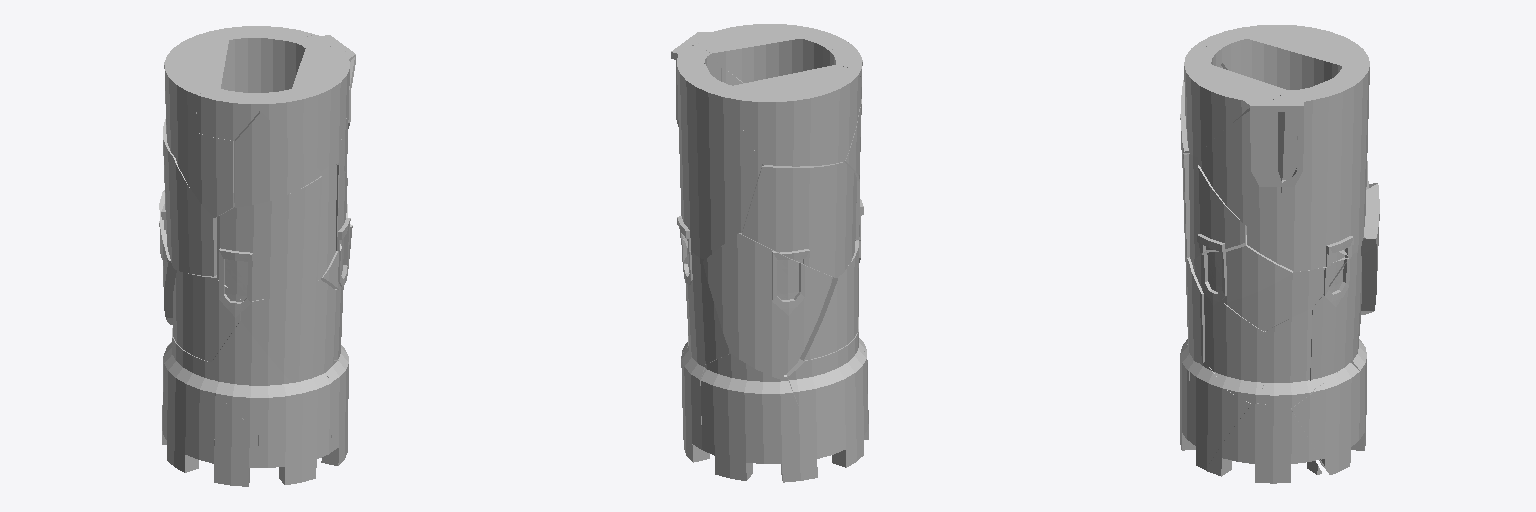
File: destruction_tower_000012.obj
3 views of the same model, side by side, from view 1: azimuth 30°, elevation 25°; view 2: azimuth 150°, elevation 25°; view 3: azimuth 270°, elevation 25° (orthographic).
Visible parts, largest first — view 1: tower.001_cell.024_Mesh.024, tower.001_cell.028_Mesh.028, tower.001_cell.021_Mesh.021, tower.001_cell.006_Mesh.006, tower.001_cell.011_Mesh.011, tower.001_cell.002_Mesh.002, tower.001_cell.013_Mesh.013, tower.001_cell.015_Mesh.015, tower.001_cell.009_Mesh.009, tower.001_cell.003_Mesh.003, tower.001_cell.017_Mesh.017, tower.001_cell.014_Mesh.014 (+10 smaller); view 2: tower.001_cell.025_Mesh.025, tower.001_cell.017_Mesh.017, tower.001_cell.007_Mesh.007, tower.001_cell.015_Mesh.015, tower.001_cell.003_Mesh.003, tower.001_cell.028_Mesh.028, tower.001_cell.005_Mesh.005, tower.001_cell.009_Mesh.009, tower.001_cell.012_Mesh.012, tower.001_cell.029_Mesh.029, tower.001_cell.006_Mesh.006, tower.001_cell.026_Mesh.026 (+2 smaller); view 3: tower.001_cell.017_Mesh.017, tower.001_cell.020_Mesh.020, tower.001_cell.015_Mesh.015, tower.001_cell.028_Mesh.028, tower.001_cell.030_Mesh.030, tower.001_cell.029_Mesh.029, tower.001_cell.012_Mesh.012, tower.001_cell_Mesh, tower.001_cell.016_Mesh.016, tower.001_cell.010_Mesh.010, tower.001_cell.023_Mesh.023, tower.001_cell.026_Mesh.026 (+10 smaller).
Part boxes in pixels (x1,y1,x2,y2): tower.001_cell.024_Mesh.024: (217,176,321,301); tower.001_cell.028_Mesh.028: (253,48,355,171); tower.001_cell.021_Mesh.021: (240,280,336,384); tower.001_cell.006_Mesh.006: (166,388,258,486); tower.001_cell.011_Mesh.011: (258,375,331,484); tower.001_cell.002_Mesh.002: (234,111,321,207); tower.001_cell.013_Mesh.013: (210,321,293,433); tower.001_cell.015_Mesh.015: (164,32,228,157); tower.001_cell.009_Mesh.009: (173,271,240,361); tower.001_cell.003_Mesh.003: (161,119,216,276); tower.001_cell.017_Mesh.017: (209,26,314,192); tower.001_cell.014_Mesh.014: (176,133,232,217); tower.001_cell.025_Mesh.025: (703,233,832,378); tower.001_cell.017_Mesh.017: (677,57,763,259); tower.001_cell.007_Mesh.007: (701,354,819,482); tower.001_cell.015_Mesh.015: (727,65,860,166); tower.001_cell.003_Mesh.003: (742,162,856,277); tower.001_cell.028_Mesh.028: (697,24,848,83); tower.001_cell.005_Mesh.005: (787,329,866,457); tower.001_cell.009_Mesh.009: (800,240,860,360); tower.001_cell.012_Mesh.012: (683,252,730,364); tower.001_cell.029_Mesh.029: (681,353,706,462); tower.001_cell.006_Mesh.006: (832,351,868,467); tower.001_cell.026_Mesh.026: (671,45,720,126); tower.001_cell.017_Mesh.017: (1311,62,1369,256); tower.001_cell.020_Mesh.020: (1198,99,1284,226); tower.001_cell.015_Mesh.015: (1247,25,1369,89); tower.001_cell.028_Mesh.028: (1184,45,1285,156); tower.001_cell.030_Mesh.030: (1206,403,1319,483); tower.001_cell.029_Mesh.029: (1291,361,1359,474); tower.001_cell.012_Mesh.012: (1311,247,1361,387); tower.001_cell_Mesh: (1204,294,1265,403); tower.001_cell.016_Mesh.016: (1260,308,1314,408); tower.001_cell.010_Mesh.010: (1192,235,1292,302); tower.001_cell.023_Mesh.023: (1189,362,1251,469); tower.001_cell.026_Mesh.026: (1277,87,1310,226).
Size of the model in its own units: 45.32 by 97.41 by 46.02.